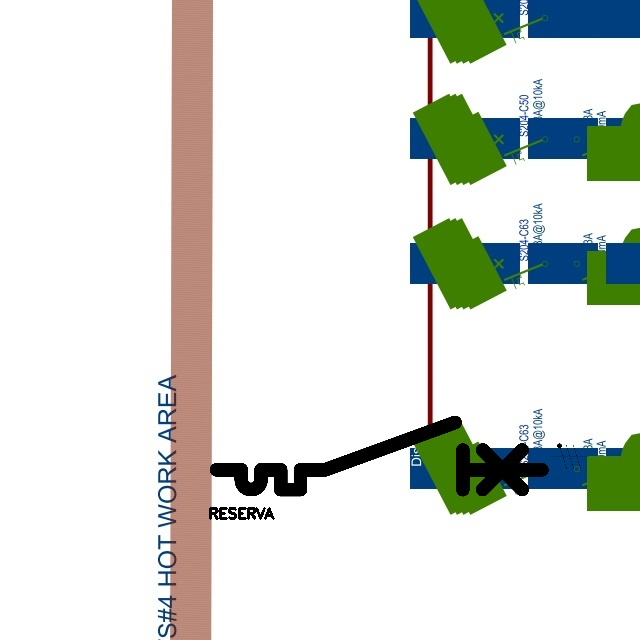interruptor_termomagnetico: (208, 414, 550, 498)
